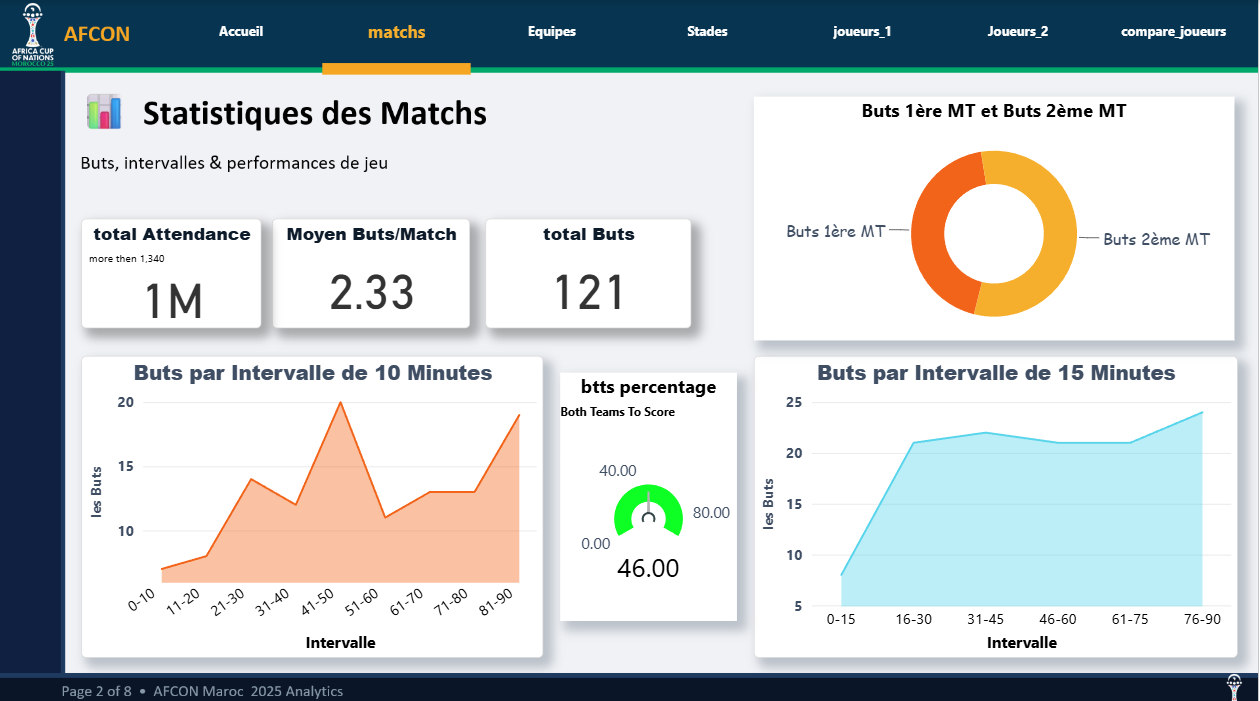

Layout of this report page (visuals, bound fields, positions):
{"tool":"powerbi","page":{"name":"matchs","canvas":[1280,720],"ordinal":1},"visuals":[{"type":"stackedAreaChart","title":"Buts par Intervalle de 15 Minutes","fields":{"Category":["Intervalles15.Intervalle"],"Y":["africa_cup_dw fact_league_stats.Buts par Intervalle 15"]},"box":[767.8,362.7,491.5,306.8],"z":0},{"type":"areaChart","title":"Buts par Intervalle de 10 Minutes","fields":{"Category":["Intervalles10.Intervalle"],"Y":["africa_cup_dw fact_league_stats.Buts par Intervalle"]},"box":[83.1,362.7,469.5,306.8],"z":1000},{"type":"donutChart","title":"Buts 1ère MT et Buts 2ème MT","fields":{"Y":["africa_cup_dw fact_league_stats.Buts 1ère MT","africa_cup_dw fact_league_stats.Buts 2ème MT"]},"box":[767.3,99.2,488.3,248],"z":2000},{"type":"Tachometer1474636471549","title":"btts percentage","fields":{"Y":["Sum(africa_cup_dw fact_league_stats.btts_percentage)"]},"box":[571.2,379.7,179.7,252.5],"z":3000},{"type":"card","title":"Moyen Buts/Match","fields":{"Values":["Sum(africa_cup_dw fact_league_stats.average_goals_per_match)"]},"box":[277.5,223.2,201.5,111.6],"z":4000},{"type":"card","title":"total Attendance","fields":{"Values":["Sum(africa_cup_dw fact_matches.attendance)"]},"box":[83.7,223.2,182.9,111.6],"z":5000},{"type":"card","title":"total Buts","fields":{"Values":["Sum(africa_cup_dw fact_matches.total_goals)"]},"box":[494.5,223.2,209.3,111.6],"z":6000},{"type":"pageNavigator","box":[172.1,0,1097.5,65.1],"z":7000},{"type":"shape","title":"report-accent","box":[328.6,65.1,151,12],"z":8000}]}

Visuals, with their boxes on the page's 1280x720 design canvas (x1, y1, x2, y2). These are canvas units, not pixel positions in the 1260x701 screenshot, which may show the page scaled, cropped or inside an application window:
"Buts par Intervalle de 15 Minutes" stackedAreaChart: Rect(768, 363, 1259, 670)
"Buts par Intervalle de 10 Minutes" areaChart: Rect(83, 363, 553, 670)
"Buts 1ère MT et Buts 2ème MT" donutChart: Rect(767, 99, 1256, 347)
"btts percentage" Tachometer1474636471549: Rect(571, 380, 751, 632)
"Moyen Buts/Match" card: Rect(278, 223, 479, 335)
"total Attendance" card: Rect(84, 223, 267, 335)
"total Buts" card: Rect(494, 223, 704, 335)
pageNavigator: Rect(172, 0, 1270, 65)
"report-accent" shape: Rect(329, 65, 480, 77)
